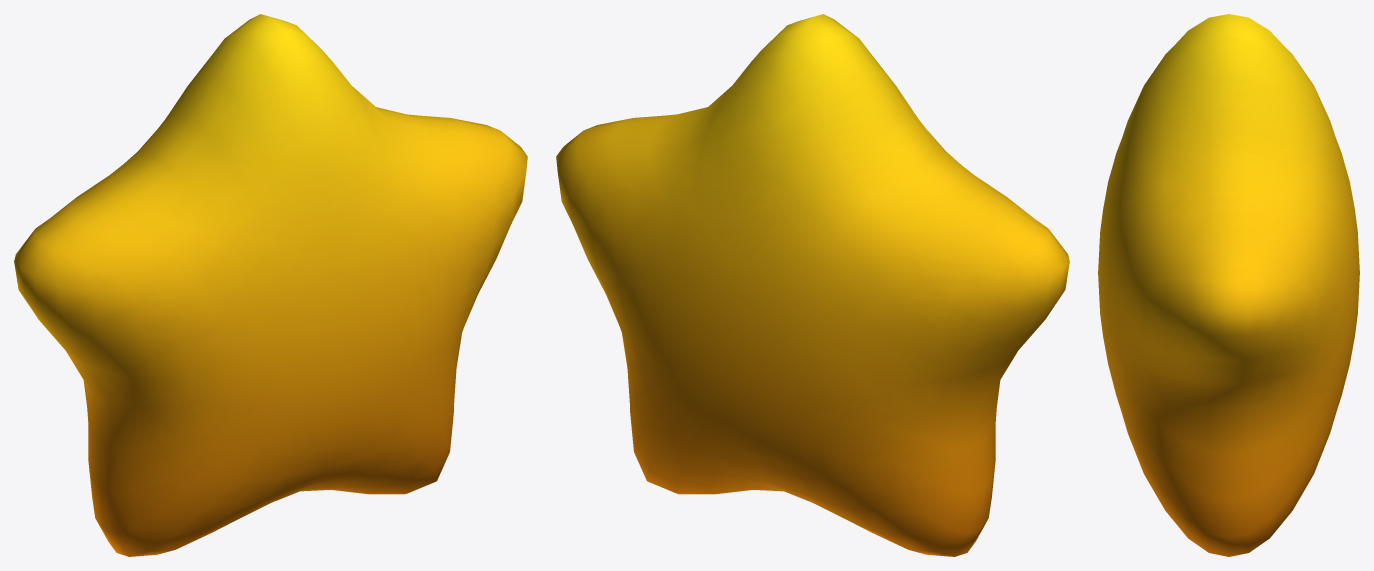
Rendered from Star.fbx.
3 views of the same model, side by side, from view 1: azimuth 30°, elevation 25°; view 2: azimuth 150°, elevation 25°; view 3: azimuth 270°, elevation 25° (orthographic). The views are drawn at different scales.
Visible parts, largest first — view 1: Star; view 2: Star; view 3: Star.
Part boxes in pixels (bbox=[...]): Star: bbox=[14, 14, 527, 556]; Star: bbox=[556, 14, 1069, 556]; Star: bbox=[1098, 14, 1359, 556].
Size of the model in its own units: 72.04 by 69.17 by 34.49.
Materials: 1 (1 with a texture image).
